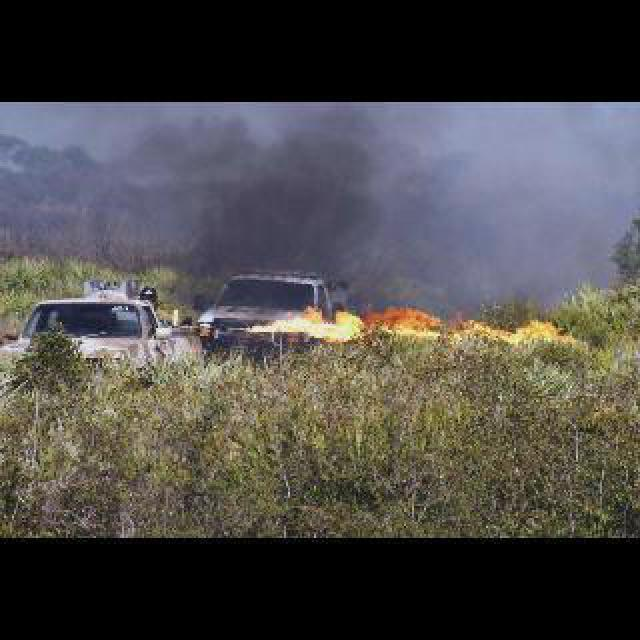Fire: (238, 306, 578, 350)
Smoke: (174, 108, 448, 278)
